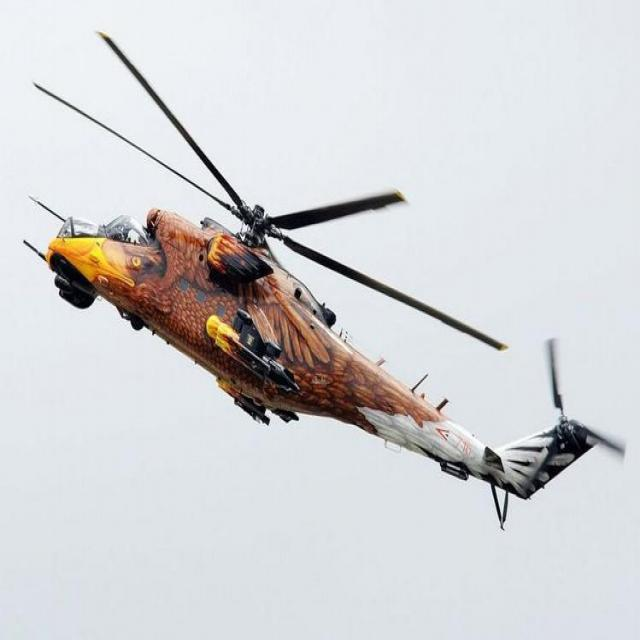MIL_HELO: (16, 25, 630, 535)
